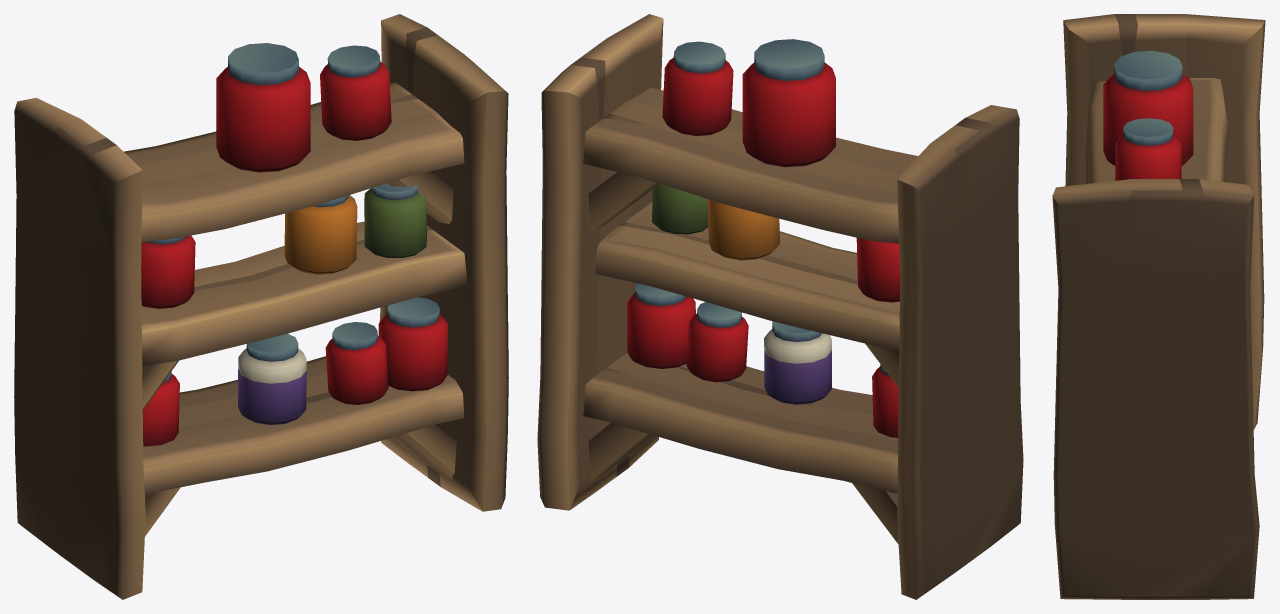
Rendered from tavern_wooden_shelve_jar.fbx.
3 views of the same model, side by side, from view 1: azimuth 30°, elevation 25°; view 2: azimuth 150°, elevation 25°; view 3: azimuth 270°, elevation 25° (orthographic). The views are drawn at different scales.
Visible parts, largest first — view 1: tavern_wooden_shelve_jar_LOD0; view 2: tavern_wooden_shelve_jar_LOD0; view 3: tavern_wooden_shelve_jar_LOD0.
Boxes of the visible parts, x1,y1,x2,y2 form: tavern_wooden_shelve_jar_LOD0: (14, 14, 508, 599); tavern_wooden_shelve_jar_LOD0: (537, 14, 1023, 599); tavern_wooden_shelve_jar_LOD0: (1052, 14, 1265, 599).
Size of what is drawn, in the model's own units: 204 by 231 by 100.
